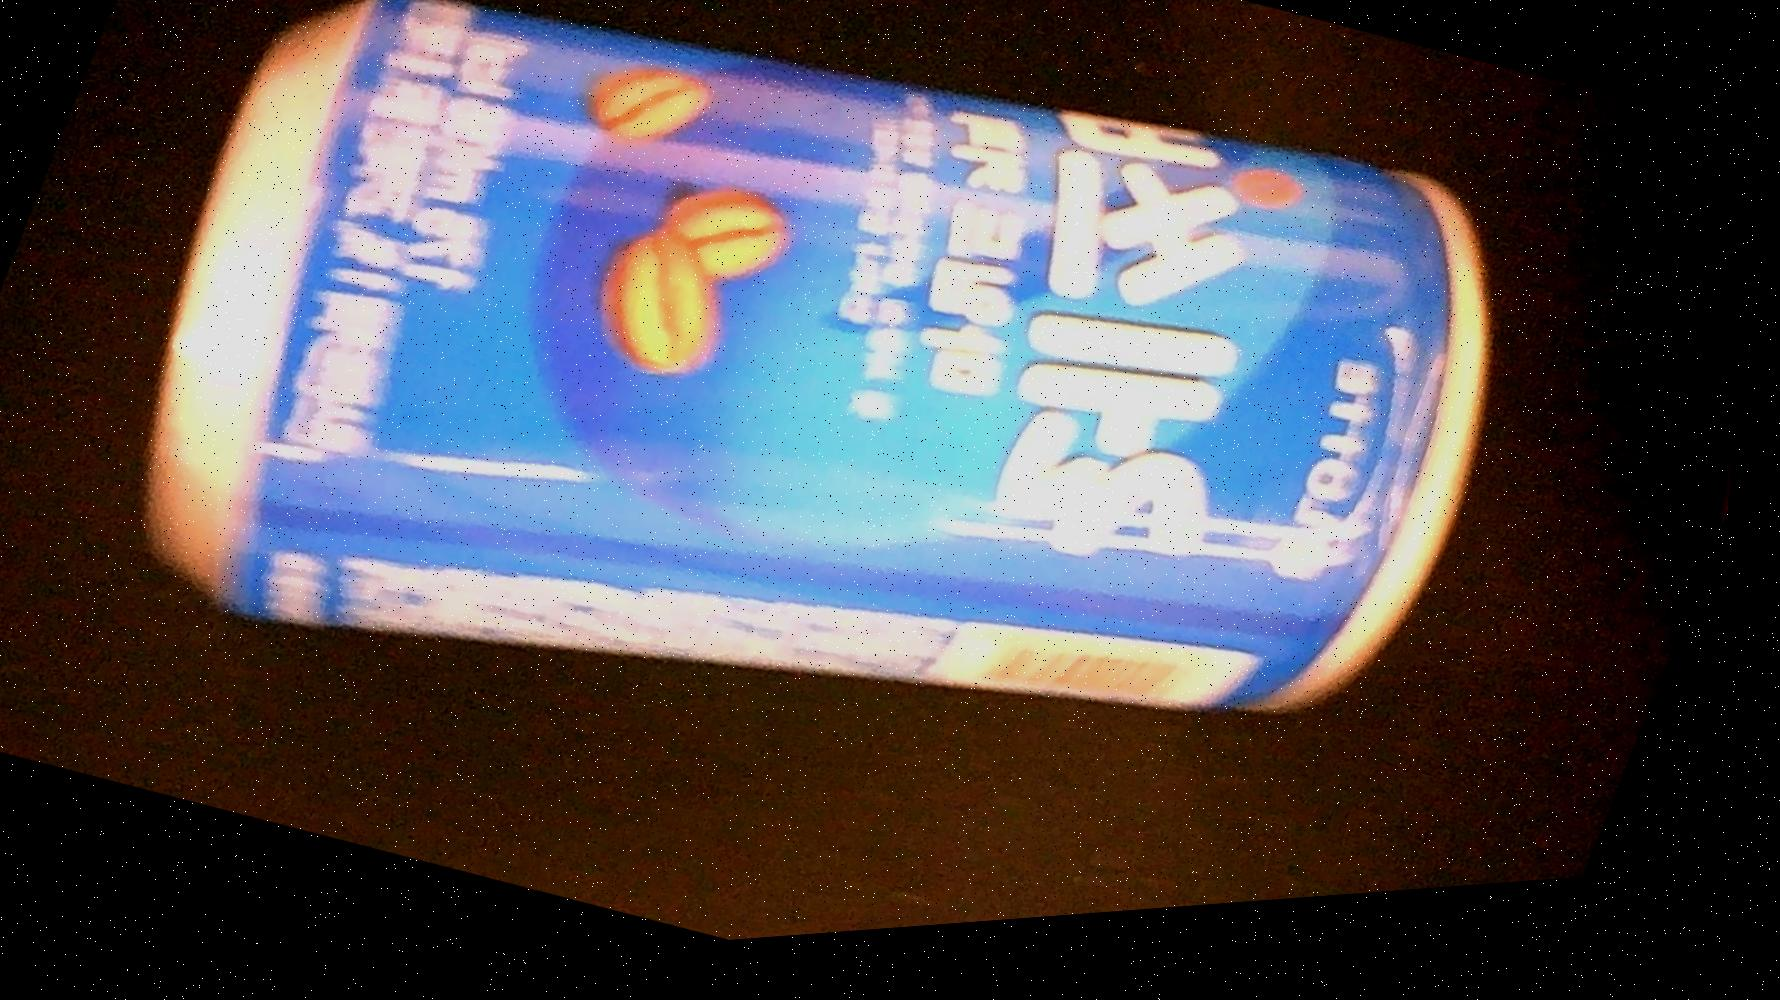letsbe: (32, 0, 1604, 990)
